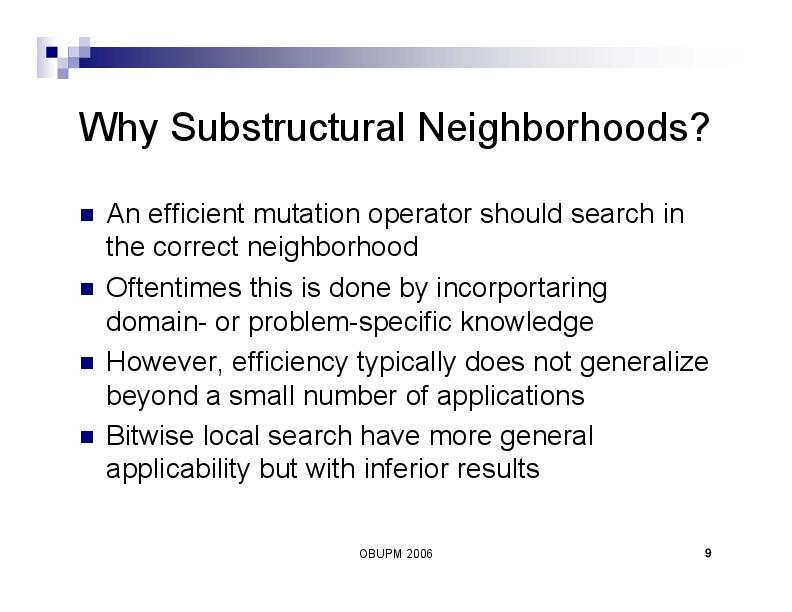paragraph: (100, 194, 754, 495)
title: (75, 100, 713, 157)
